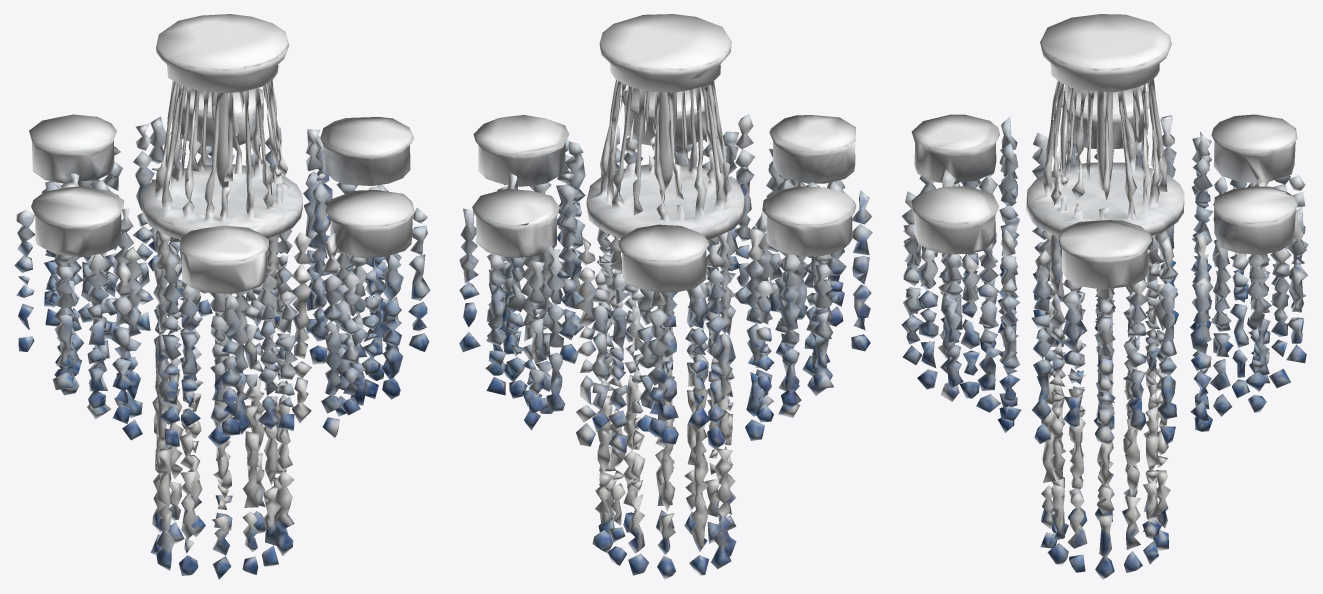
Rendered from Blue_White_Radiance.glb.
The picture shows the model from 3 angles, left to right: view 1: azimuth 30°, elevation 25°; view 2: azimuth 150°, elevation 25°; view 3: azimuth 270°, elevation 25°; orthographic projection.
Bounding box in the file's own units: 1.49 × 1.99 × 1.44.
1 material, 1 textured.
